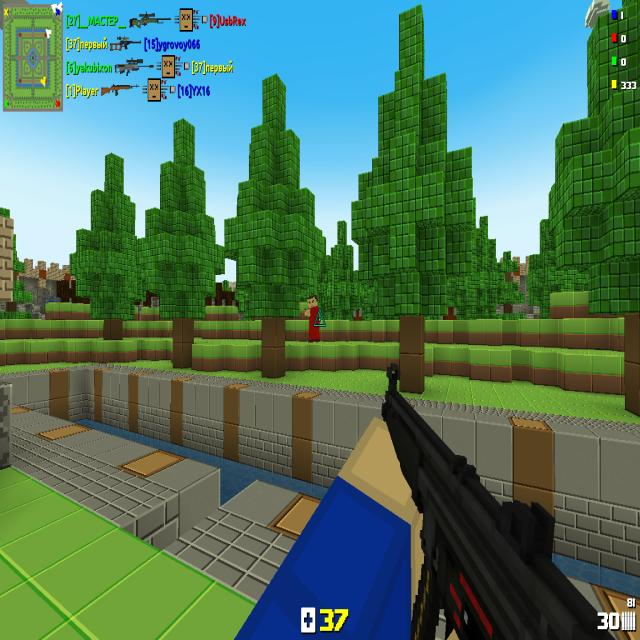enemy: (304, 295, 320, 343)
